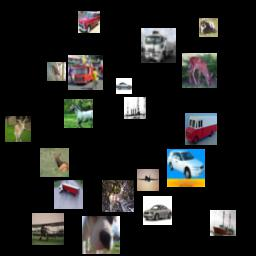airplane: (32, 213, 64, 245), (137, 169, 159, 191)
automobile: (167, 149, 205, 187), (143, 196, 172, 225), (78, 11, 100, 33), (116, 78, 132, 94)
bird: (47, 62, 66, 81)
deer: (182, 53, 217, 88), (102, 180, 134, 212), (40, 148, 69, 177), (5, 116, 31, 142)
dog: (82, 216, 120, 254), (199, 18, 218, 37)
ship: (210, 210, 236, 236), (124, 97, 146, 119)
truck: (68, 55, 103, 90), (141, 28, 176, 63), (185, 113, 217, 145), (54, 180, 83, 209)
